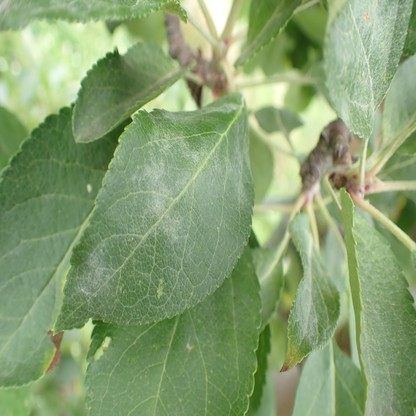powdery_mildew: (53, 92, 254, 332), (343, 186, 416, 416), (322, 1, 414, 137), (287, 207, 342, 375), (76, 86, 135, 139), (0, 0, 119, 24)
